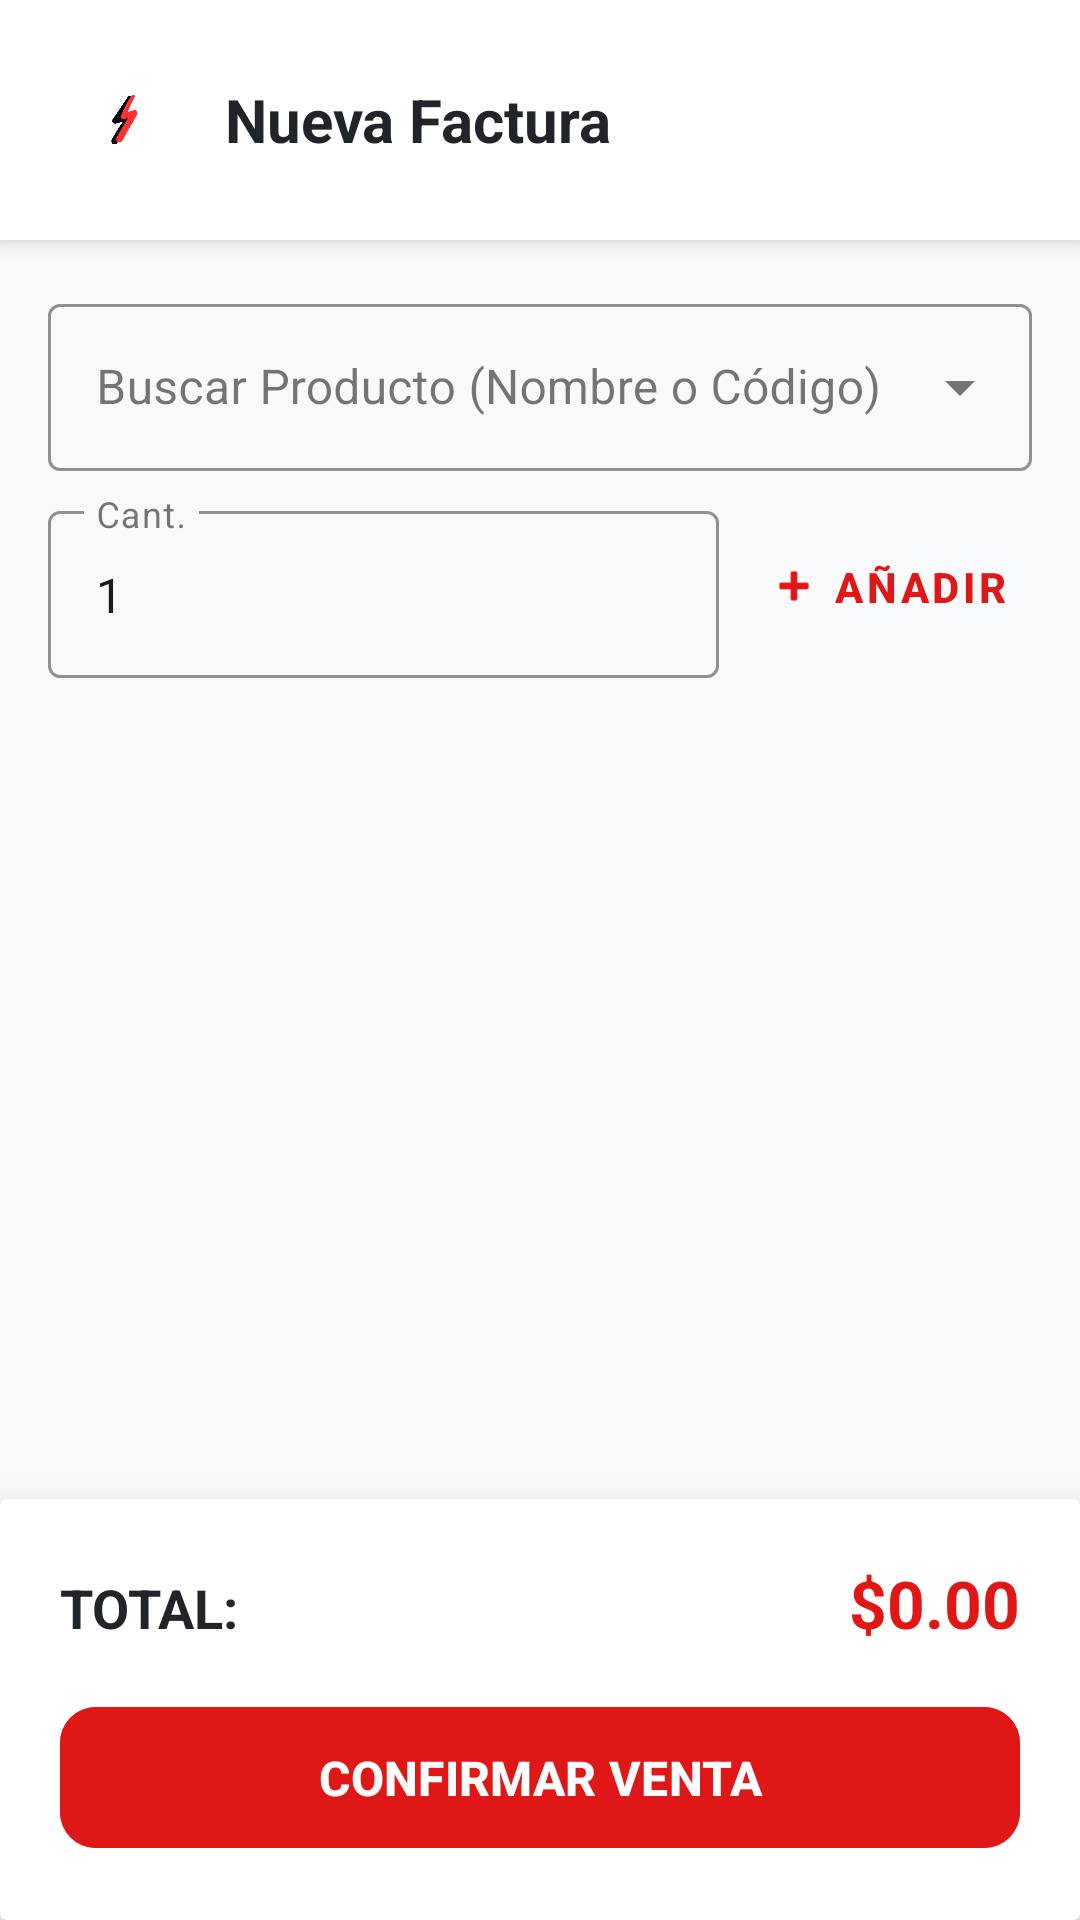

Named icons in this screenshot (1080px x 1920px) and their bounding boxes, box=[x1, y1, x2, y2]:
rayitoimpulse: box=[111, 95, 138, 144]
